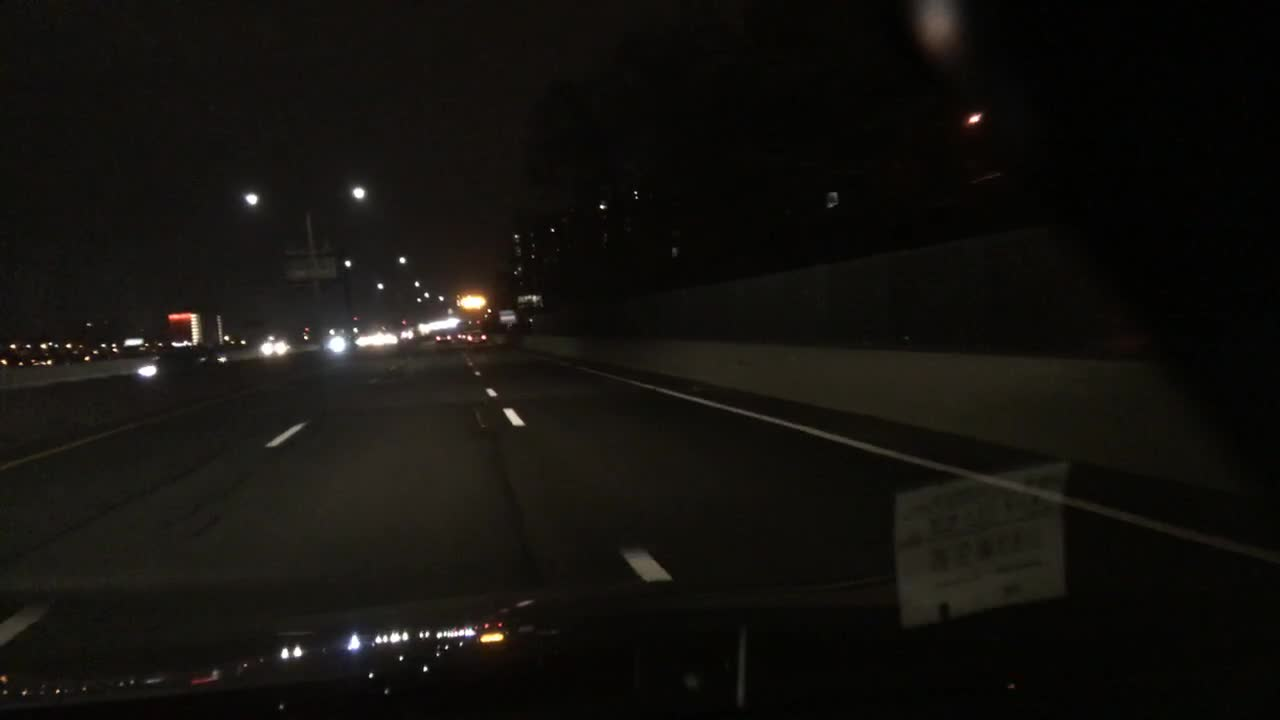car: (139, 344, 232, 376), (260, 335, 296, 356), (326, 333, 350, 354), (356, 330, 381, 349), (434, 325, 455, 345), (465, 331, 491, 346), (381, 329, 398, 348), (400, 323, 414, 339), (456, 330, 466, 341)
traffic sign: (281, 244, 338, 286)
